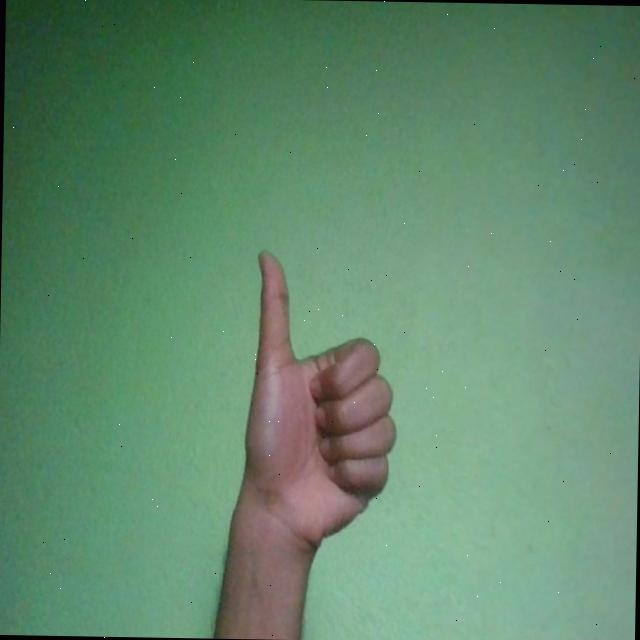Good Job: (243, 248, 399, 554)
